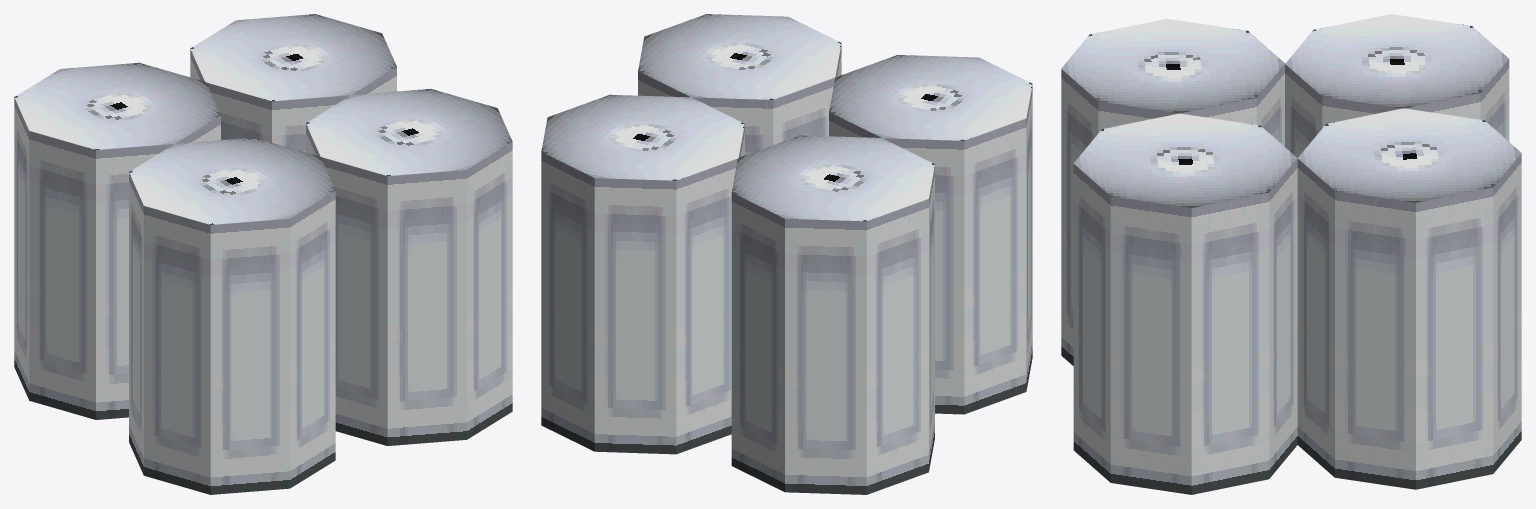
The model's file is primary_093.glb.
3 renders of one model, left to right at view 1: azimuth 30°, elevation 25°; view 2: azimuth 150°, elevation 25°; view 3: azimuth 270°, elevation 25°, orthographic. The views are drawn at different scales.
Visible parts, largest first — view 1: Object; view 2: Object; view 3: Object.
Part boxes in pixels (bbox=[...]): Object: bbox=[14, 14, 512, 494]; Object: bbox=[541, 14, 1032, 494]; Object: bbox=[1061, 14, 1521, 494].
Size of the model in its own units: 1.94 by 1.34 by 1.95.
Materials: 2 (2 with a texture image).
